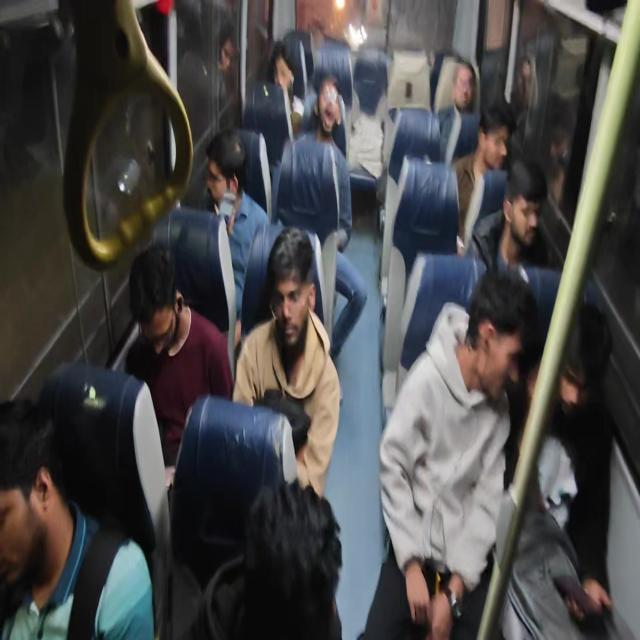person: (233, 479, 348, 639), (3, 389, 63, 590), (472, 271, 530, 435), (123, 245, 193, 362), (554, 292, 608, 433), (266, 226, 316, 356), (502, 154, 546, 258), (204, 138, 247, 218), (476, 101, 510, 172), (272, 42, 300, 110), (316, 78, 342, 150), (452, 48, 476, 116)
